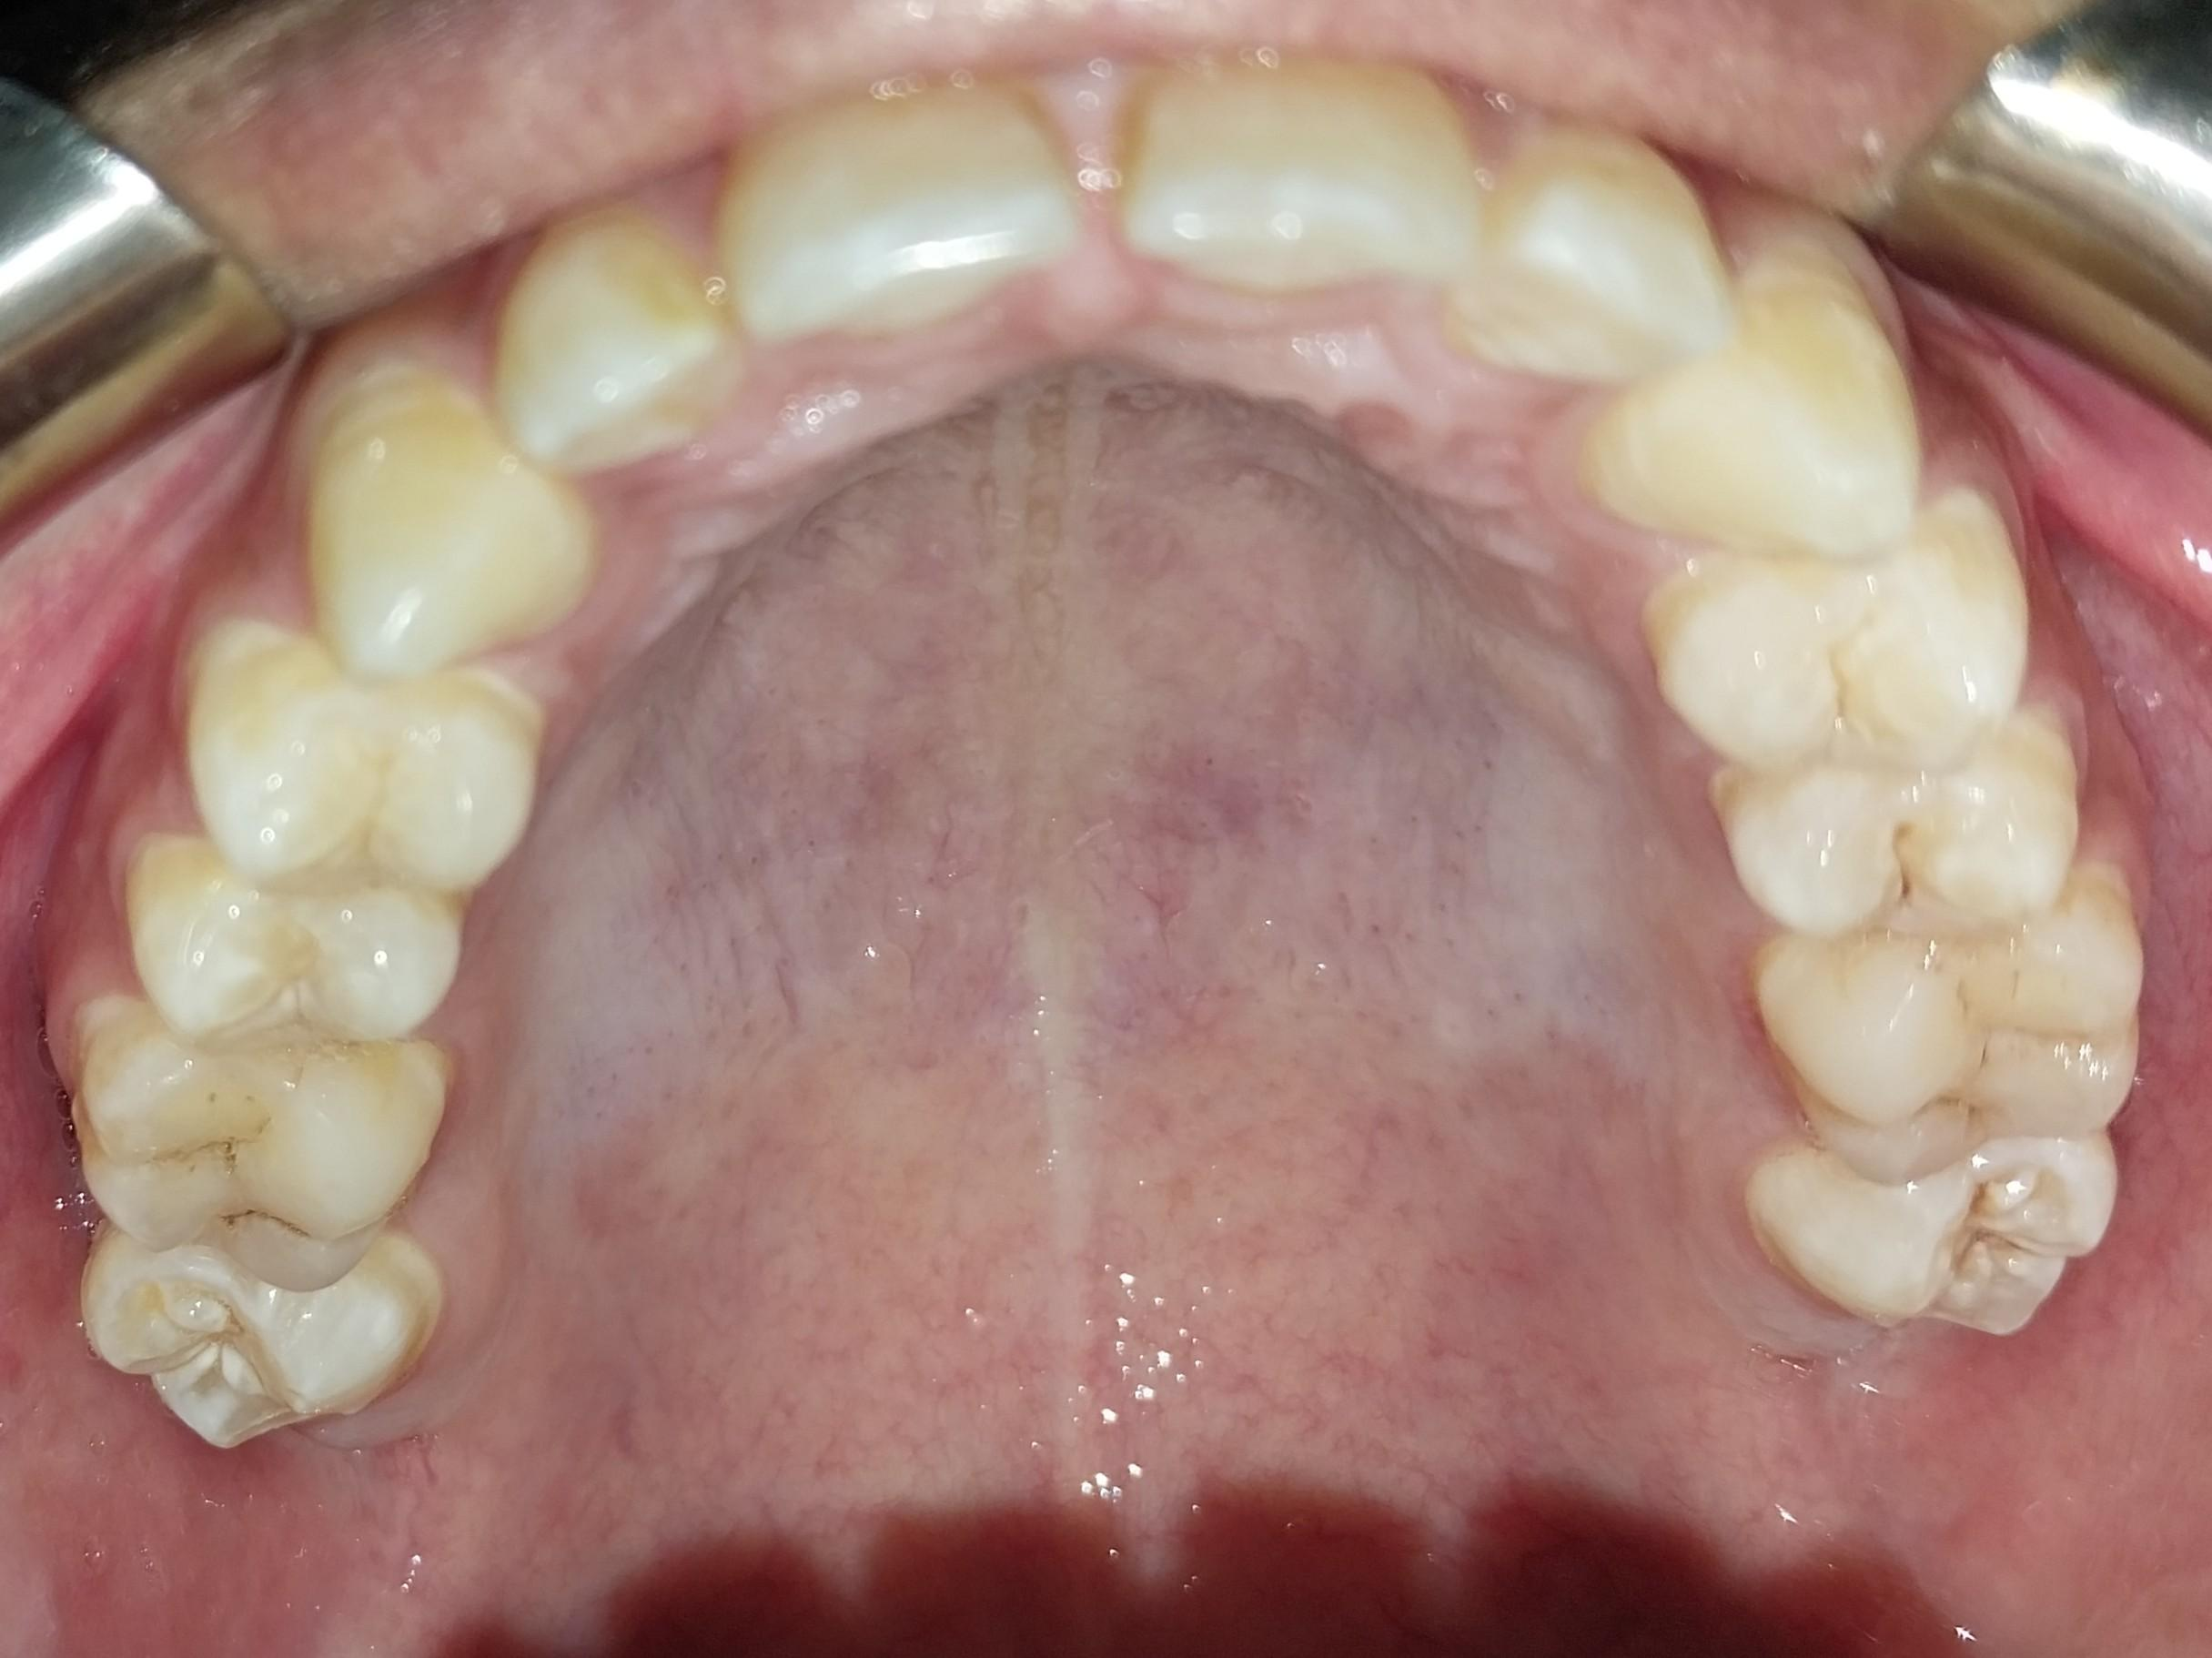D: (77, 1000, 449, 1282), (1707, 723, 2085, 930), (1749, 1128, 2100, 1332)
